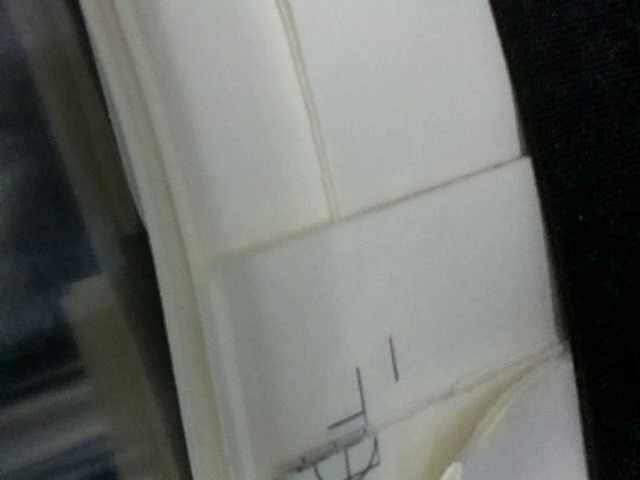misaligned: (276, 365, 382, 479)
